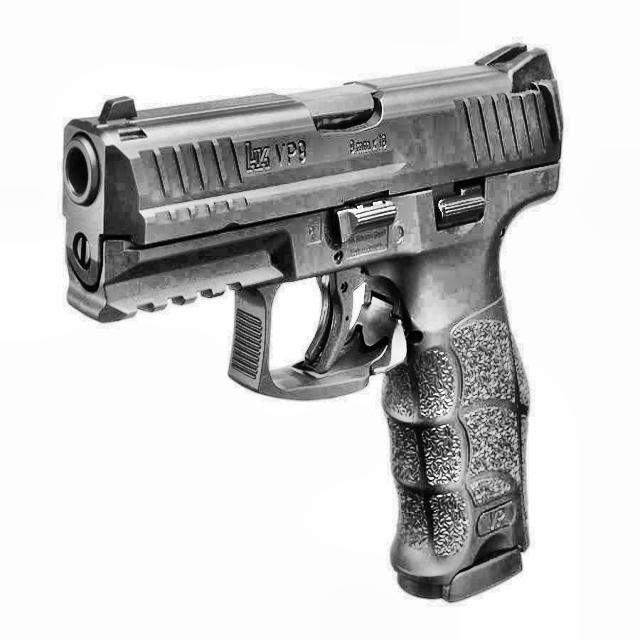HKVP9: (60, 39, 565, 604)
